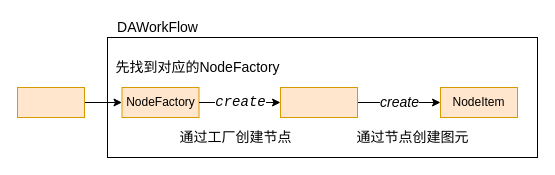
Some shapes in this 555 by 175 pixel diagram are drawn without their labels. The shapes that lost their labels are listed below. From the top down, each one's centre as x and y in pixels, then its label:
At pixel 50 102: "MetaData".
At pixel 319 102: "Node".
